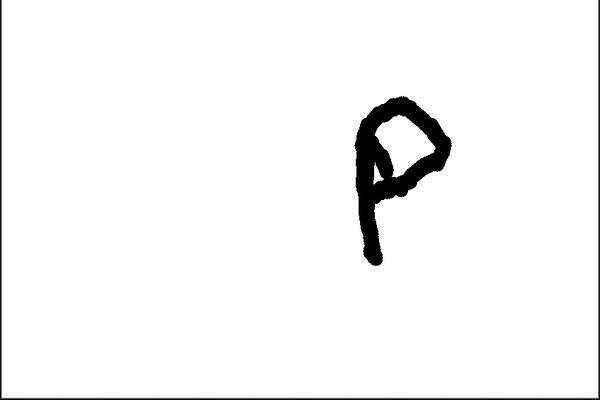P: (338, 93, 465, 276)
